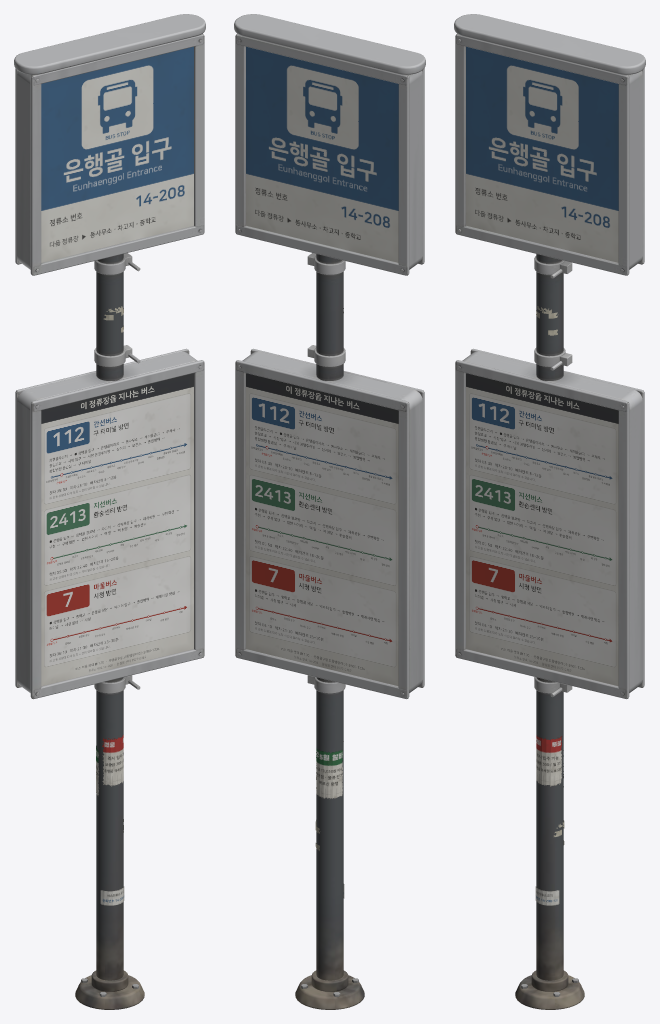
The model's file is BusStopSign.fbx.
3 views of the same model, side by side, from view 1: azimuth 30°, elevation 25°; view 2: azimuth 150°, elevation 25°; view 3: azimuth 330°, elevation 25° (orthographic).
Visible parts, largest first — view 1: BusStopSign_Body, BusStopSign_Routes, BusStopSign_Head, BusStopSign_Decals; view 2: BusStopSign_Body, BusStopSign_Routes, BusStopSign_Head, BusStopSign_Decals; view 3: BusStopSign_Body, BusStopSign_Routes, BusStopSign_Head, BusStopSign_Decals.
Boxes of the visible parts, x1,y1,x2,y2 form: BusStopSign_Body: (14,14,205,1009); BusStopSign_Routes: (41,373,193,686); BusStopSign_Head: (41,46,193,262); BusStopSign_Decals: (96,306,124,905); BusStopSign_Body: (234,14,425,1009); BusStopSign_Routes: (246,373,398,686); BusStopSign_Head: (246,46,398,262); BusStopSign_Decals: (315,308,344,898); BusStopSign_Body: (454,14,645,1009); BusStopSign_Routes: (466,373,618,686); BusStopSign_Head: (466,46,618,262); BusStopSign_Decals: (535,306,564,905).
Bounding box in the file's own units: 0.6 × 2.96 × 0.1953.
